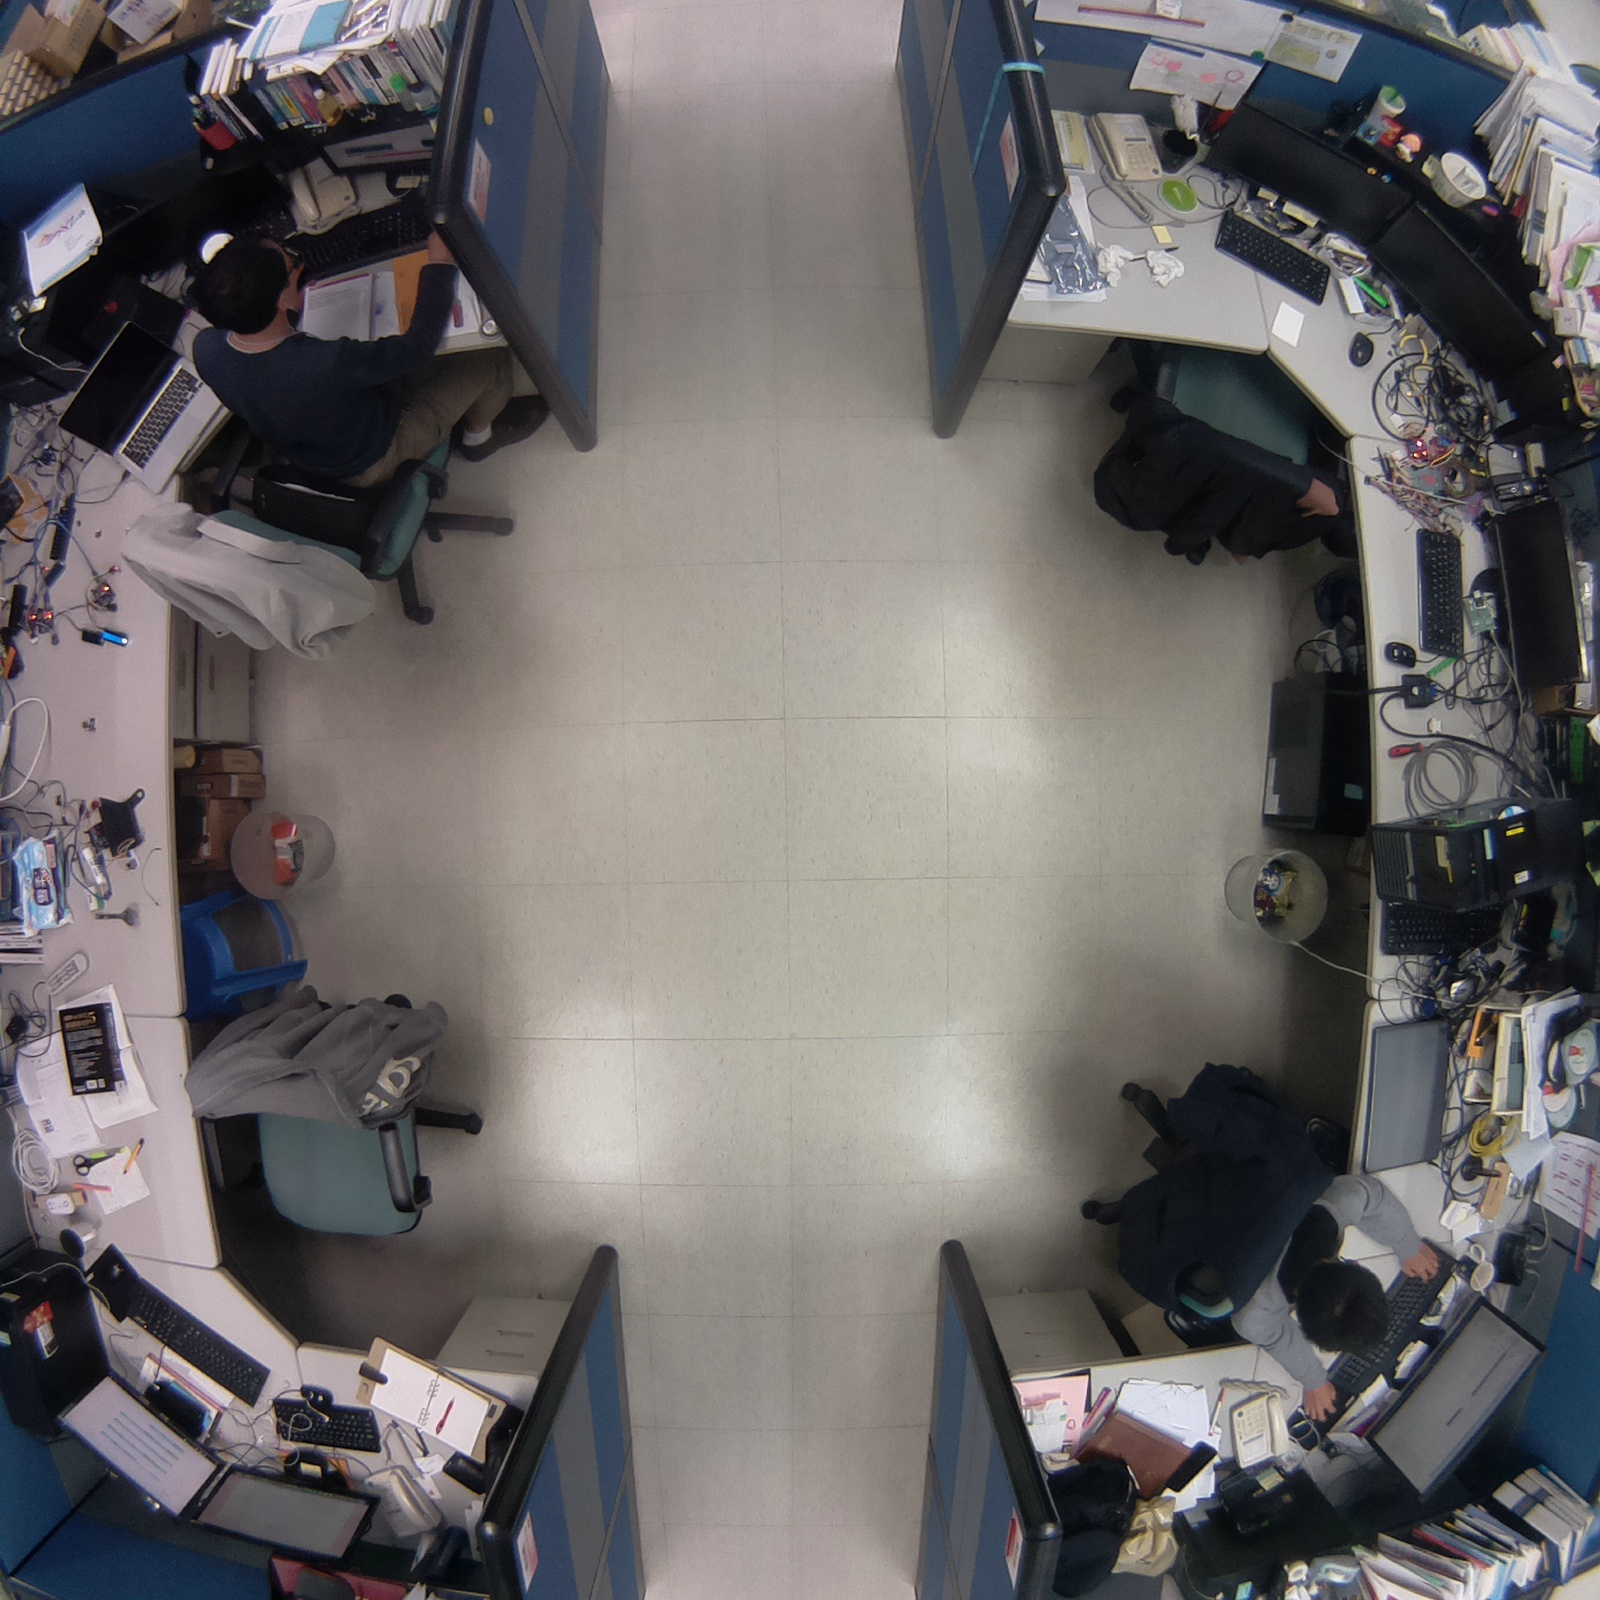chair: (166, 966, 508, 1269), (1065, 319, 1373, 585)
sitting: (108, 199, 570, 670)
